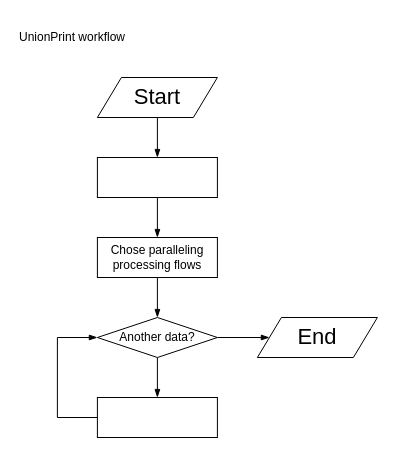
Image size: 395x455. Some labels were removed from this diagram. The shapes that lost their labels are listed below. From the top down, each one's centre as x and y in pixels, then its label:
At point (156, 177): "Retrieve raw data".
At point (156, 417): "Send email workflow".
